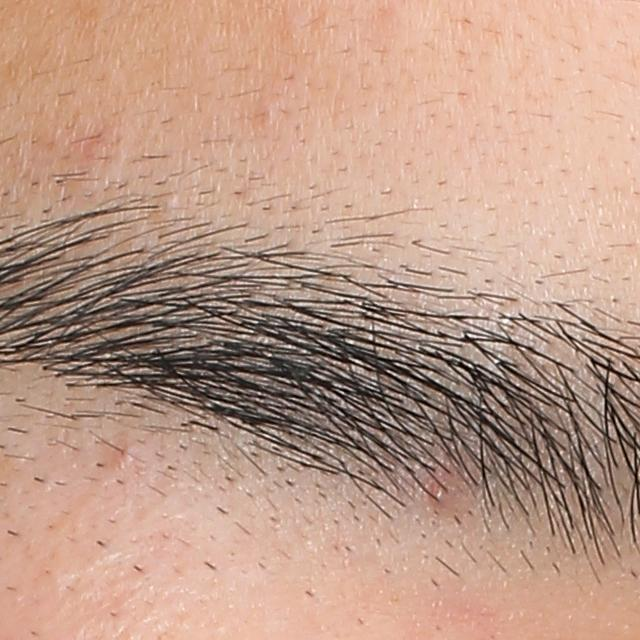comedo: (256, 96, 281, 129)
papule: (428, 469, 459, 517)
